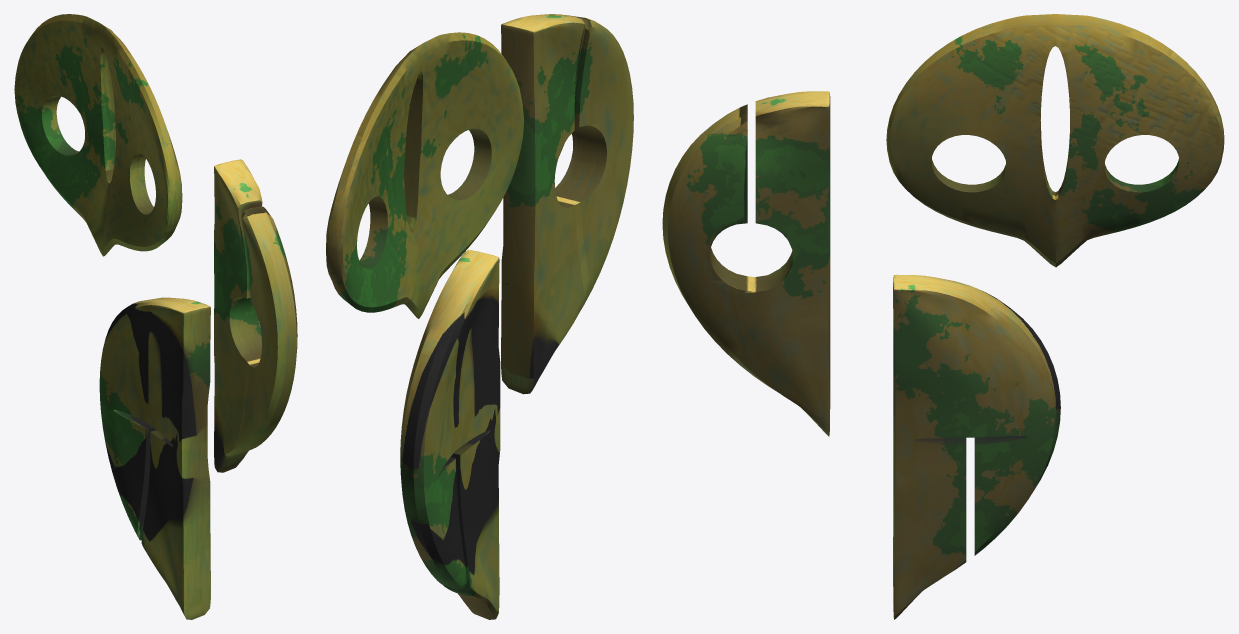
File: Masks.fbx
3 renders of one model, left to right at view 1: azimuth 30°, elevation 25°; view 2: azimuth 150°, elevation 25°; view 3: azimuth 270°, elevation 25°, orthographic. The views are drawn at different scales.
Visible parts, largest first — view 1: PermasMask, OloMask, PermutMask; view 2: OloMask, PermutMask, PermasMask; view 3: OloMask, PermasMask, PermutMask.
Boxes of the visible parts, bbox=[...] form: PermasMask: bbox=[99, 297, 210, 619]; OloMask: bbox=[14, 14, 182, 256]; PermutMask: bbox=[214, 159, 297, 472]; OloMask: bbox=[326, 32, 524, 318]; PermutMask: bbox=[501, 14, 633, 394]; PermasMask: bbox=[400, 249, 500, 619]; OloMask: bbox=[886, 14, 1224, 267]; PermasMask: bbox=[893, 274, 1060, 619]; PermutMask: bbox=[662, 91, 830, 436].
Size of the model in its own units: 34.75 by 384 by 330.
2 materials, 2 textured.
